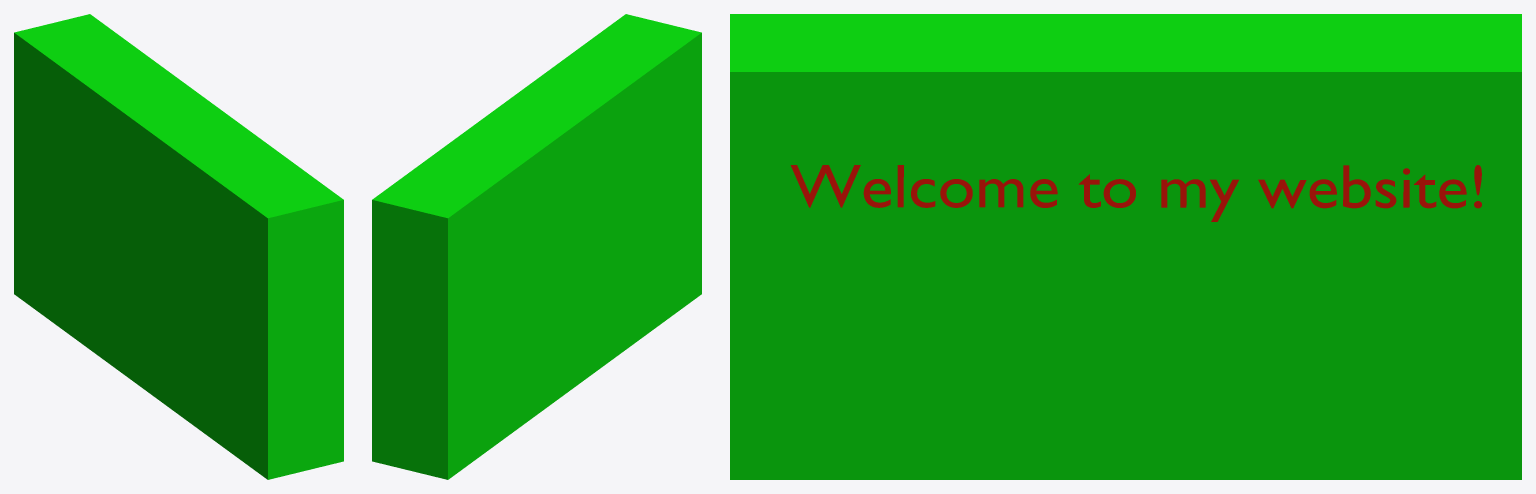
The model's file is BillboardModel_2.glb.
3 renders of one model, left to right at view 1: azimuth 30°, elevation 25°; view 2: azimuth 150°, elevation 25°; view 3: azimuth 270°, elevation 25°, orthographic. The views are drawn at different scales.
Visible parts, largest first — view 1: Cube; view 2: Cube; view 3: Cube, Text.
Boxes of the visible parts, x1=… form: Cube: x1=14, y1=14, x2=343, y2=479; Cube: x1=372, y1=14, x2=701, y2=479; Cube: x1=730, y1=14, x2=1521, y2=479; Text: x1=790, y1=165, x2=1481, y2=221.
Size of the model in its own units: 1.24 by 3.97 by 6.99.
